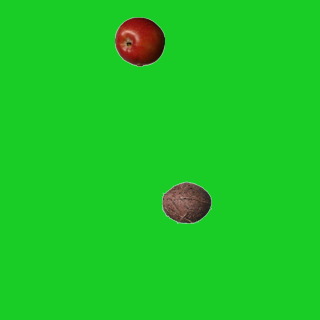Apple Braeburn: (114, 16, 164, 66)
Cocos: (161, 177, 211, 227)
